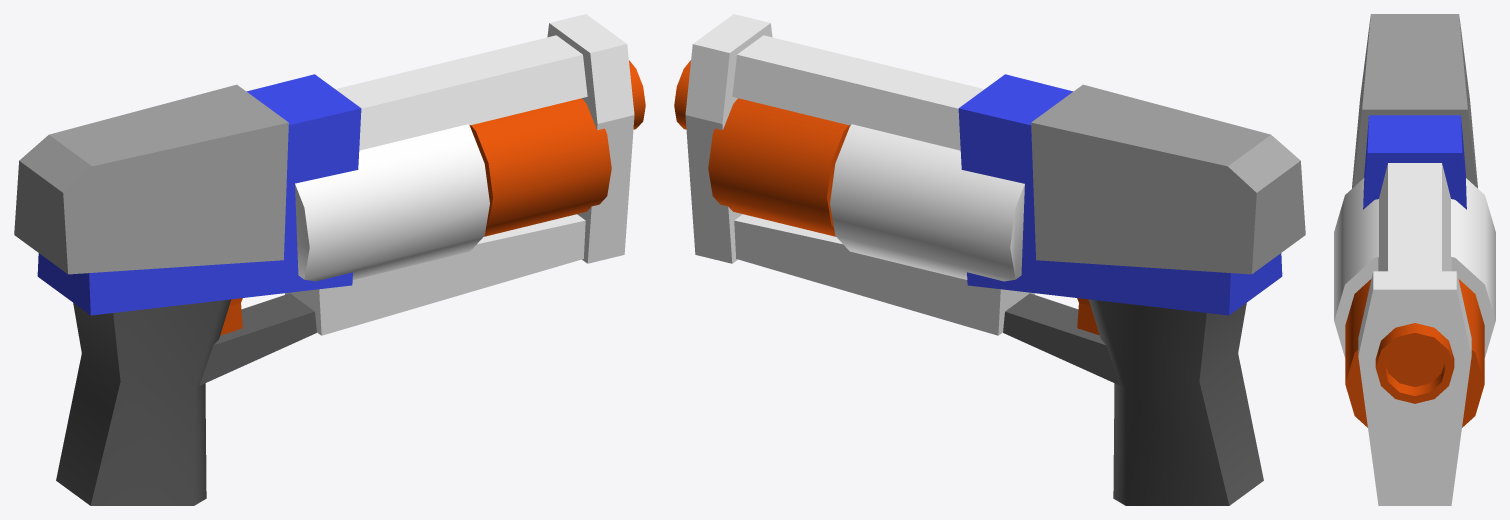
File: toygun.glb
The picture shows the model from 3 angles, left to right: view 1: azimuth 30°, elevation 25°; view 2: azimuth 150°, elevation 25°; view 3: azimuth 270°, elevation 25°; orthographic projection.
Visible parts, largest first — view 1: toygun; view 2: toygun; view 3: toygun.
Boxes of the visible parts, x1,y1,x2,y2 form: toygun: (14,14,645,505); toygun: (674,14,1305,505); toygun: (1334,14,1495,505).
Bounding box in the file's own units: 0.4439 × 0.2703 × 0.1044.
